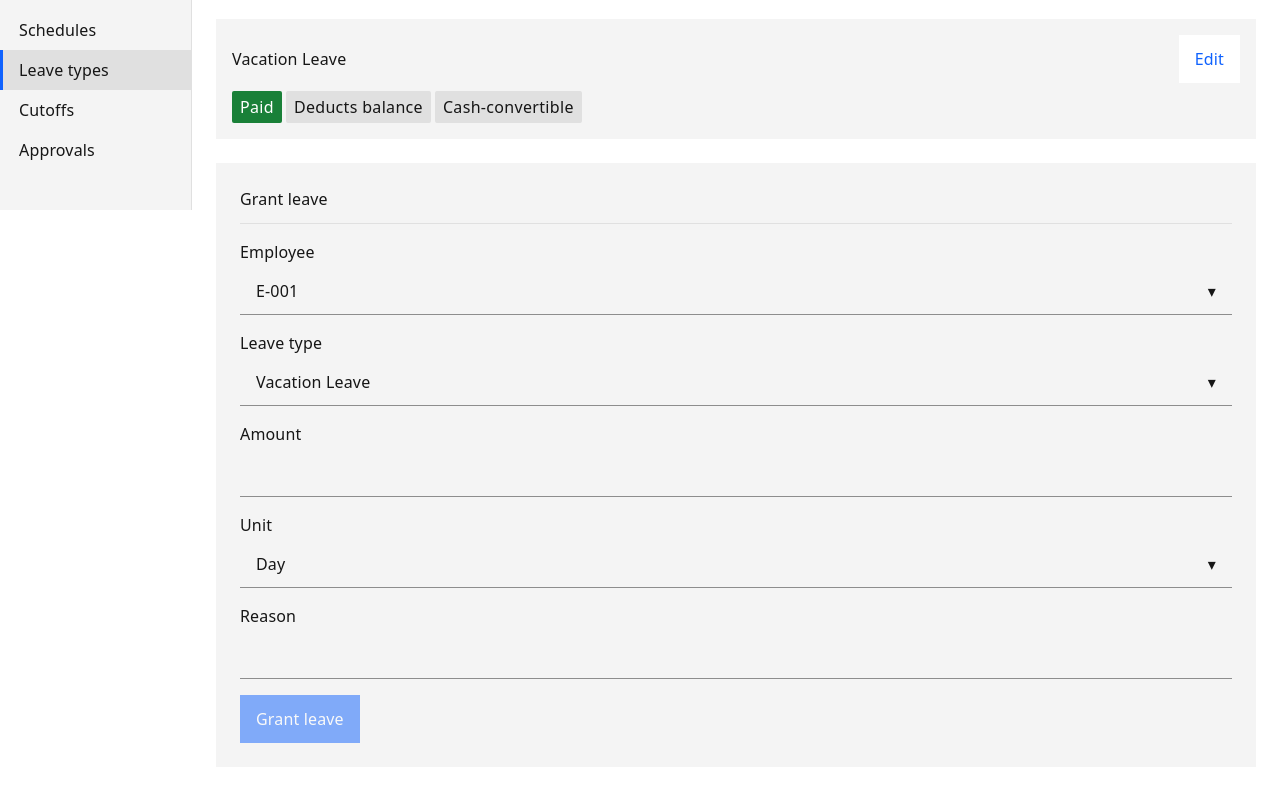
Test: /office/leave-types — grant form › offers all four LeaveUnitName options in the unit select
The width and height of the screenshot is (1280, 791).
(page scrolled)
Click the dropdown named "Unit". click: [271, 564]
box: left=240, top=541, right=1232, bottom=588
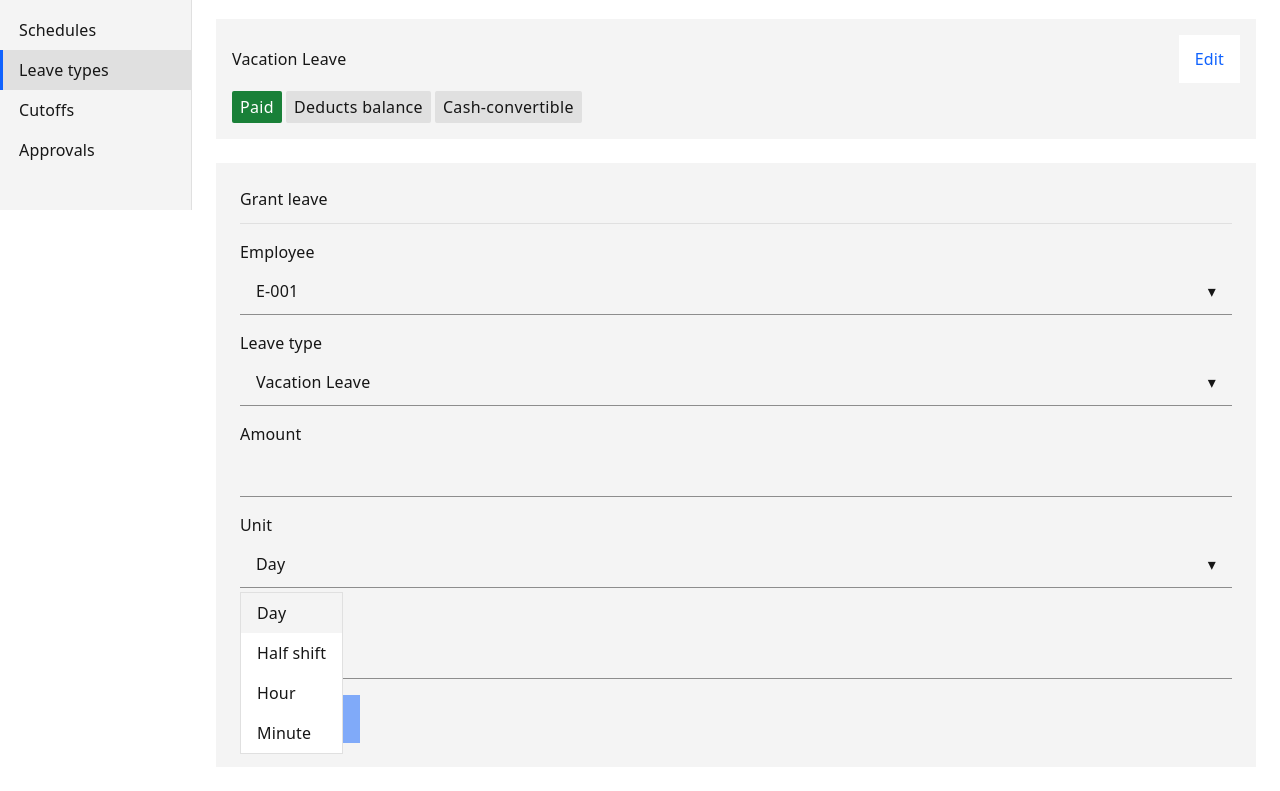
Check: the option "Day" is shown, box left=241, top=593, right=342, bottom=633
Check: the option "Half shift" is shown, box left=257, top=642, right=326, bottom=664
Check: the option "Hour" is shown, box left=257, top=682, right=296, bottom=704
